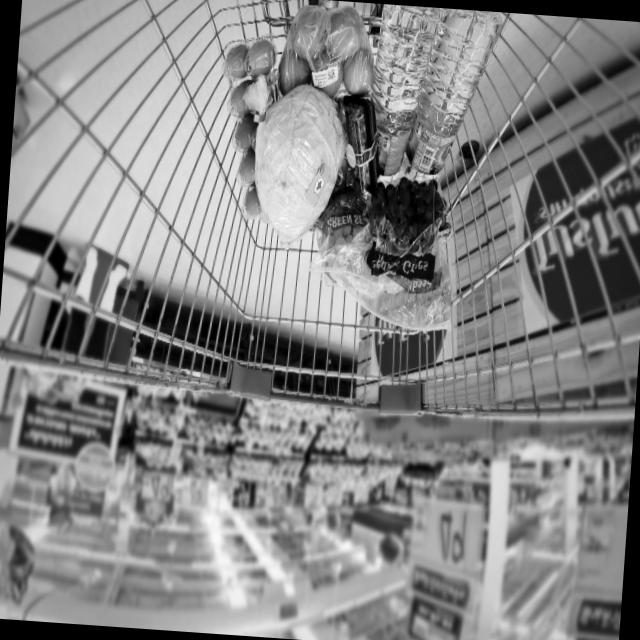bap cai: (251, 81, 350, 247)
nho: (365, 175, 447, 282)
tao: (275, 0, 381, 106)
trung: (208, 32, 280, 215)
